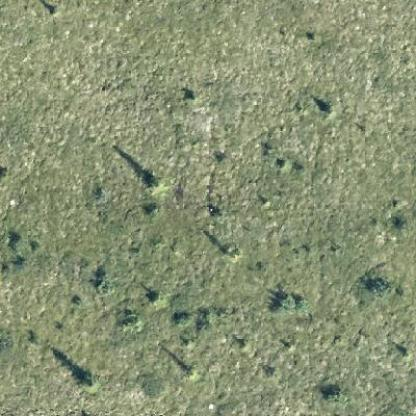tree-top: (270, 290, 307, 317), (367, 274, 393, 298), (140, 172, 166, 194), (80, 372, 103, 396), (221, 240, 242, 261), (322, 98, 342, 115)
